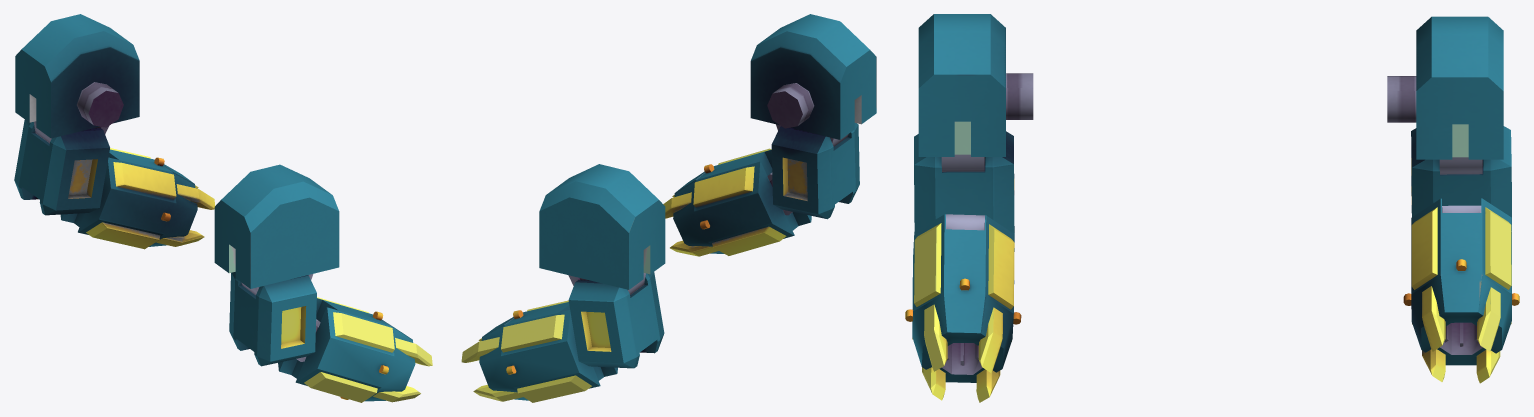
Rendered from Player_Idle9.obj.
The picture shows the model from 3 angles, left to right: view 1: azimuth 30°, elevation 25°; view 2: azimuth 150°, elevation 25°; view 3: azimuth 270°, elevation 25°; orthographic projection. The views are drawn at different scales.
Visible parts, largest first — view 1: Object003, Object005, Object001, Object007, Object006, Object002; view 2: Object003, Object005, Object001, Object007, Object006, Object002; view 3: Object001, Object007, Object005, Object003, Object002, Object006.
Boxes of the visible parts, x1,y1,x2,y2 form: Object003: [214, 164, 339, 288]; Object005: [15, 14, 139, 138]; Object001: [278, 297, 432, 402]; Object007: [60, 148, 215, 249]; Object006: [14, 120, 109, 215]; Object002: [229, 272, 316, 366]; Object003: [750, 14, 876, 139]; Object005: [539, 164, 665, 289]; Object001: [663, 148, 811, 256]; Object007: [461, 300, 617, 402]; Object006: [568, 272, 664, 368]; Object002: [771, 123, 859, 219]; Object001: [905, 214, 1021, 402]; Object007: [1403, 198, 1519, 383]; Object005: [1387, 16, 1503, 159]; Object003: [918, 14, 1033, 156]; Object002: [914, 131, 1014, 233]; Object006: [1411, 126, 1511, 231].
Bounding box in the file's own units: 36.76 × 45.68 × 83.7.
1 material, 1 textured.
